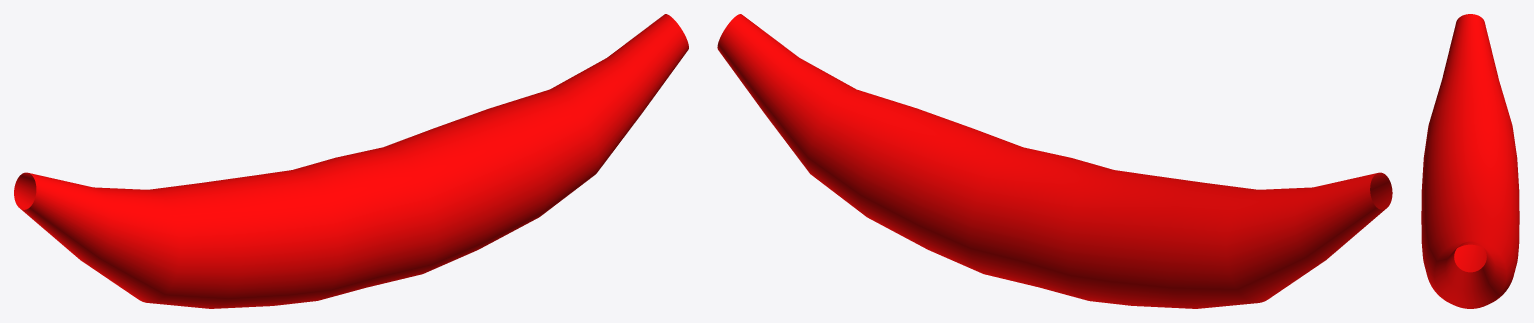
Rendered from mouth1.dae.
3 renders of one model, left to right at view 1: azimuth 30°, elevation 25°; view 2: azimuth 150°, elevation 25°; view 3: azimuth 270°, elevation 25°, orthographic. The views are drawn at different scales.
Visible parts, largest first — view 1: Mouth; view 2: Mouth; view 3: Mouth.
Part boxes in pixels (box(x1,y1,x2,y2)): Mouth: box(14, 14, 688, 308); Mouth: box(717, 14, 1392, 308); Mouth: box(1421, 14, 1519, 308).
Bounding box in the file's own units: 31.27 × 8.6 × 5.46.
